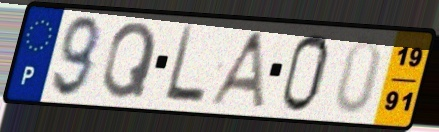0: (279, 31, 334, 114), (332, 35, 385, 117)
9: (50, 13, 106, 101)
A: (204, 28, 268, 111)
L: (161, 23, 208, 106)
Q: (99, 20, 160, 102)
